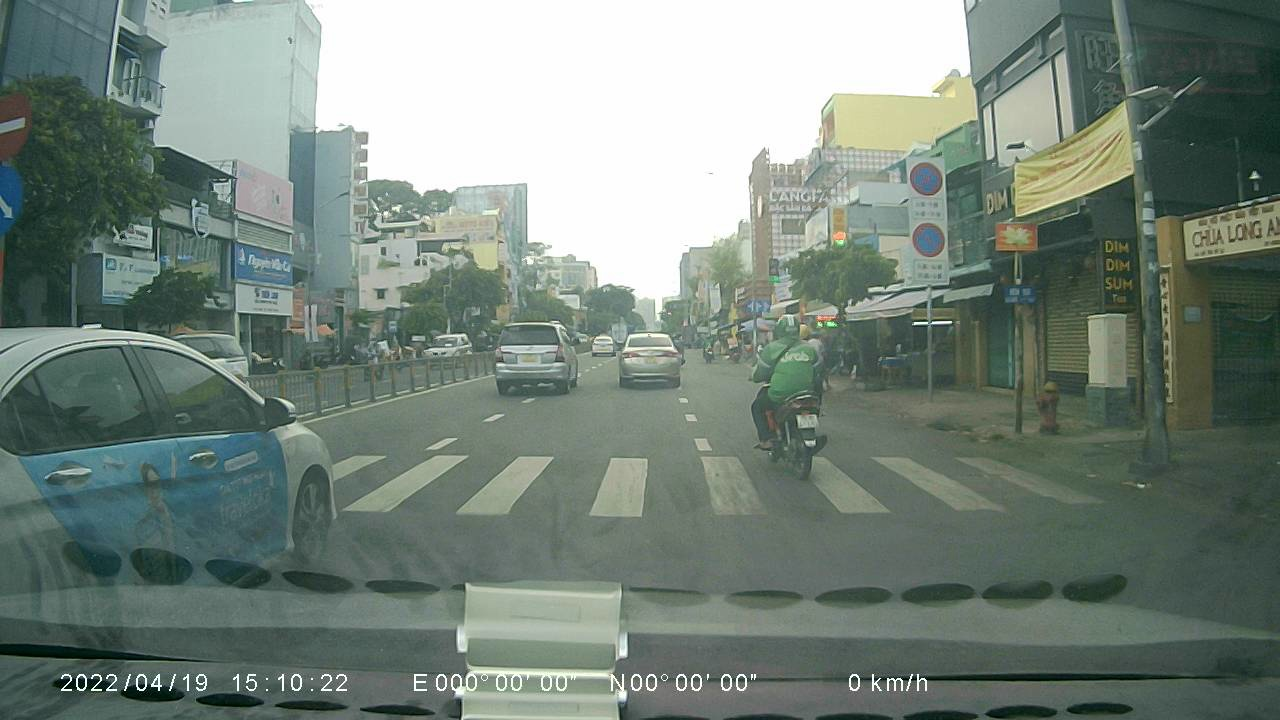Bien khac: (908, 159, 944, 195)
Cam do xe: (910, 222, 949, 259)
